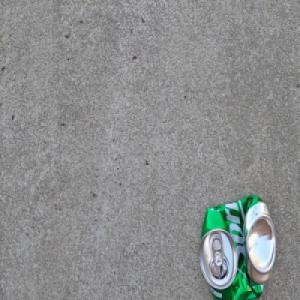SodaCan: (197, 192, 275, 300)
